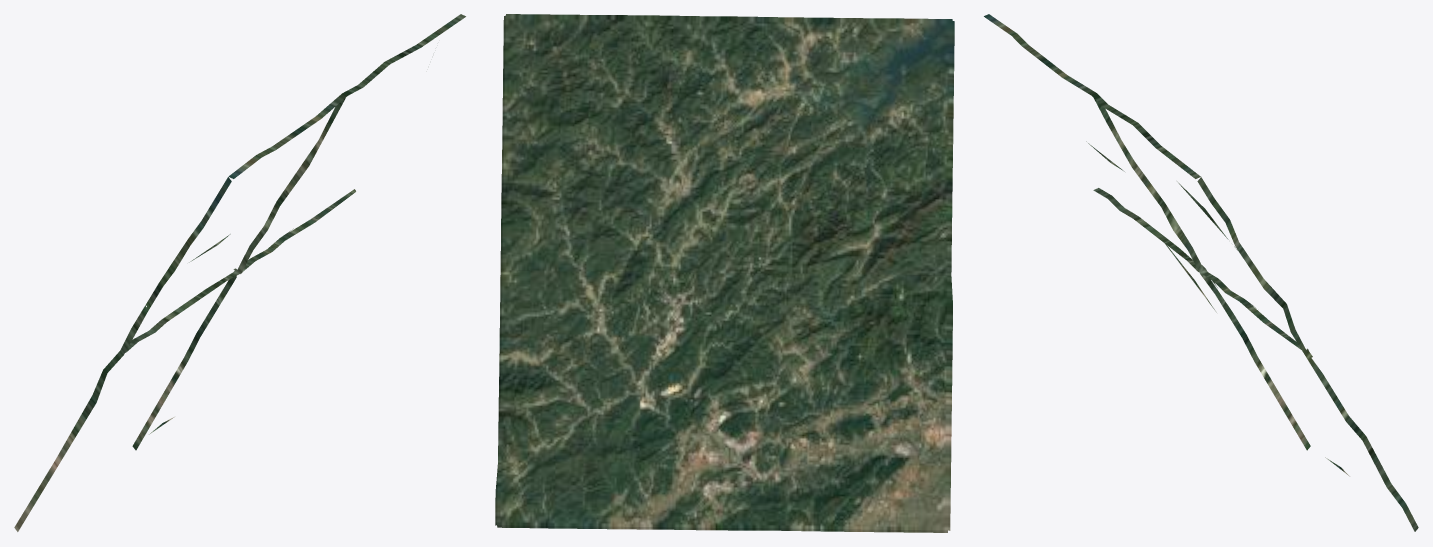
3 renders of one model, left to right at view 1: azimuth 30°, elevation 25°; view 2: azimuth 150°, elevation 25°; view 3: azimuth 270°, elevation 25°, orthographic.
Size of the model in its own units: 79186 by 69552 by 67461.
Materials: 1 (1 with a texture image).
